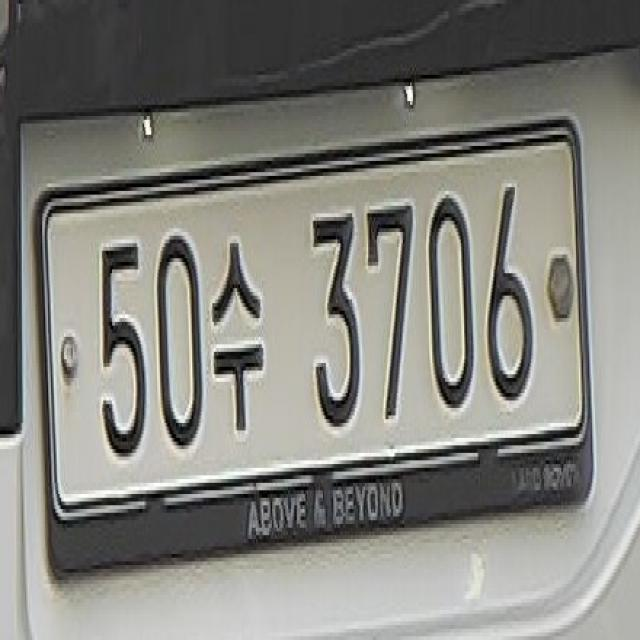0: (425, 178, 478, 428), (156, 220, 204, 461)
3: (310, 193, 362, 440)
5: (100, 232, 147, 463)
6: (484, 157, 542, 416)
7: (367, 192, 415, 432)
license_plate: (32, 94, 602, 594)
su: (212, 219, 265, 451)
